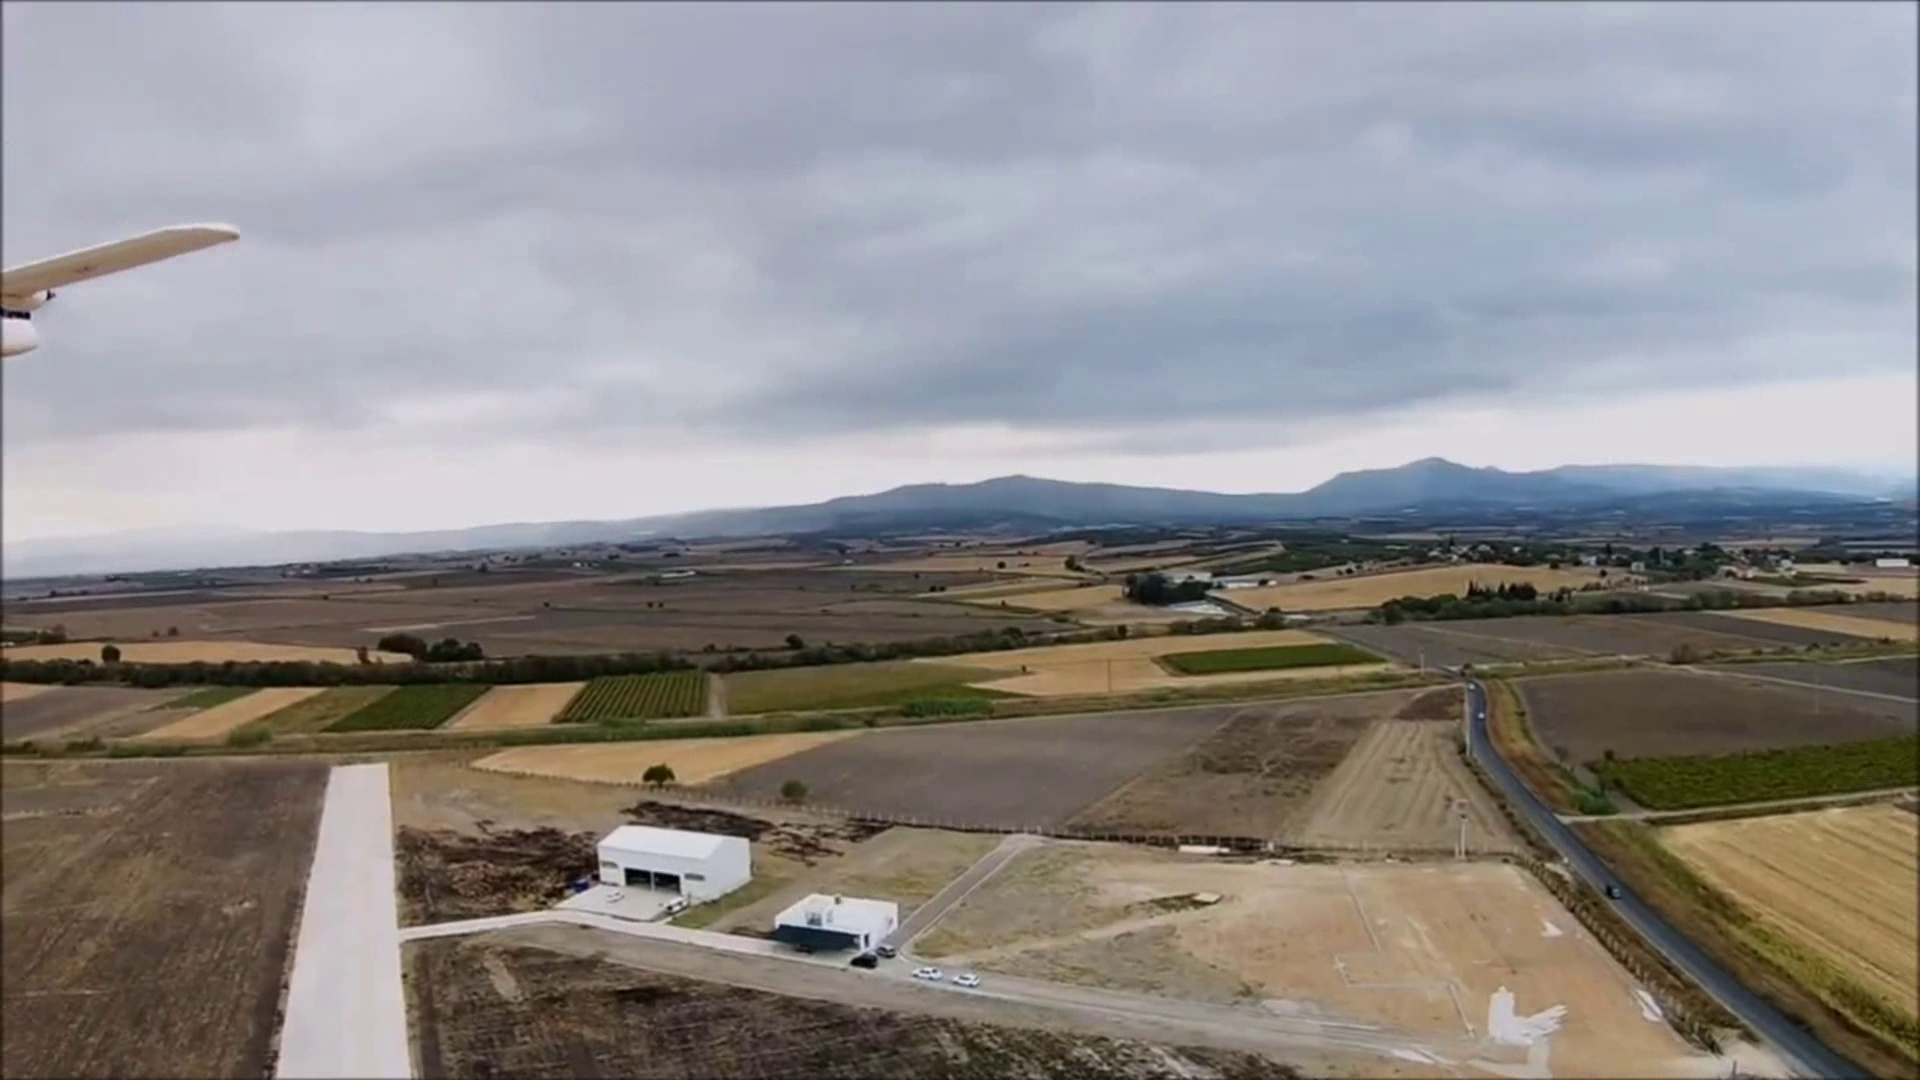airplane: (0, 222, 240, 360)
